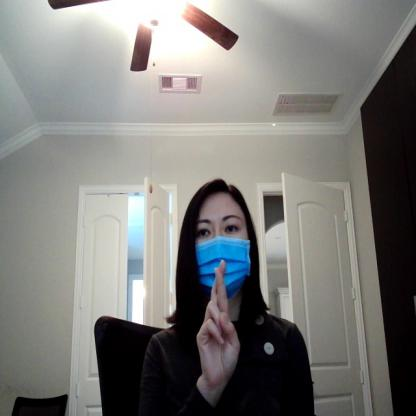right: (193, 261, 245, 392)
